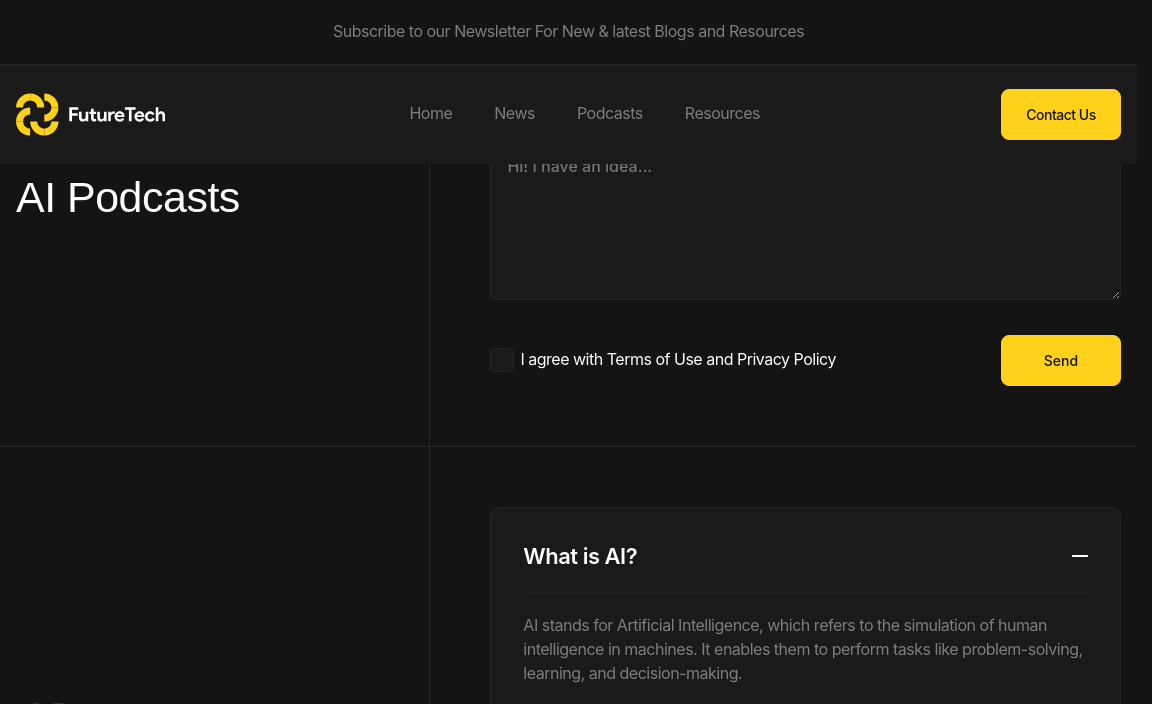
it: FutureTech application shell › toggles the terms checkbox when its label text is clicked
(page scrolled)
Click the text "I agree with Terms of Use and Privacy Policy": click(678, 360) top-left (520, 348), bottom-right (836, 372)
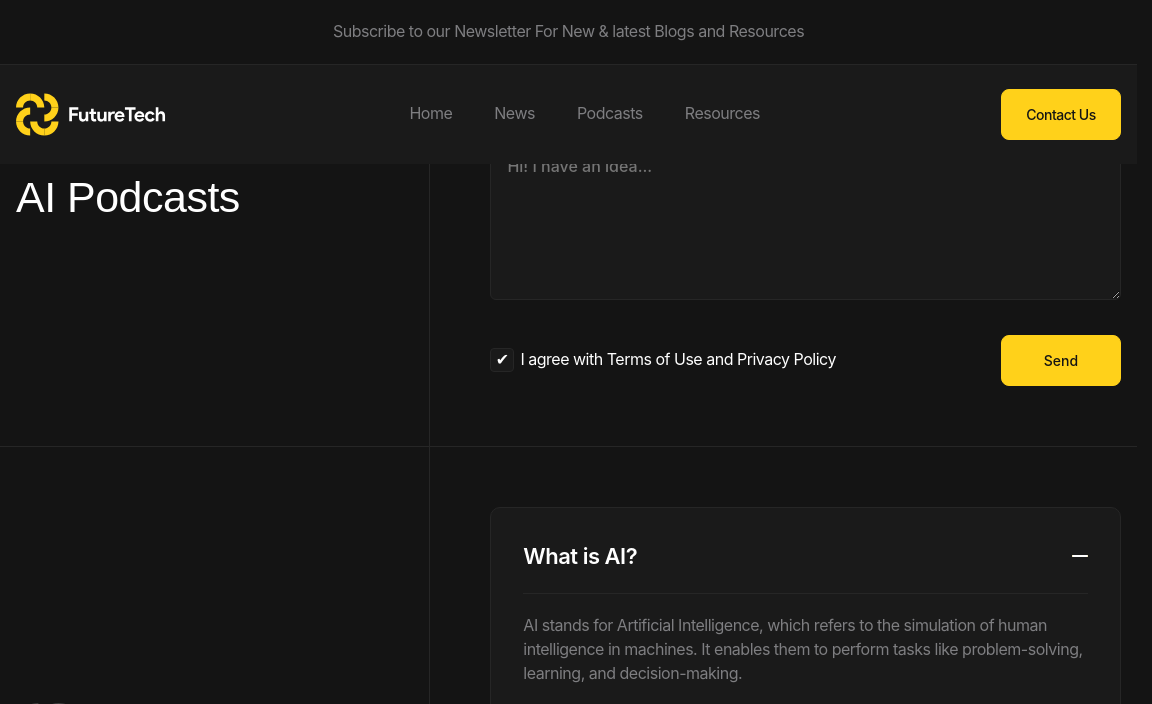
Check: the checkbox labelled "I agree with Terms of Use and Privacy Policy" is checked, box top-left (490, 348), bottom-right (514, 372)
